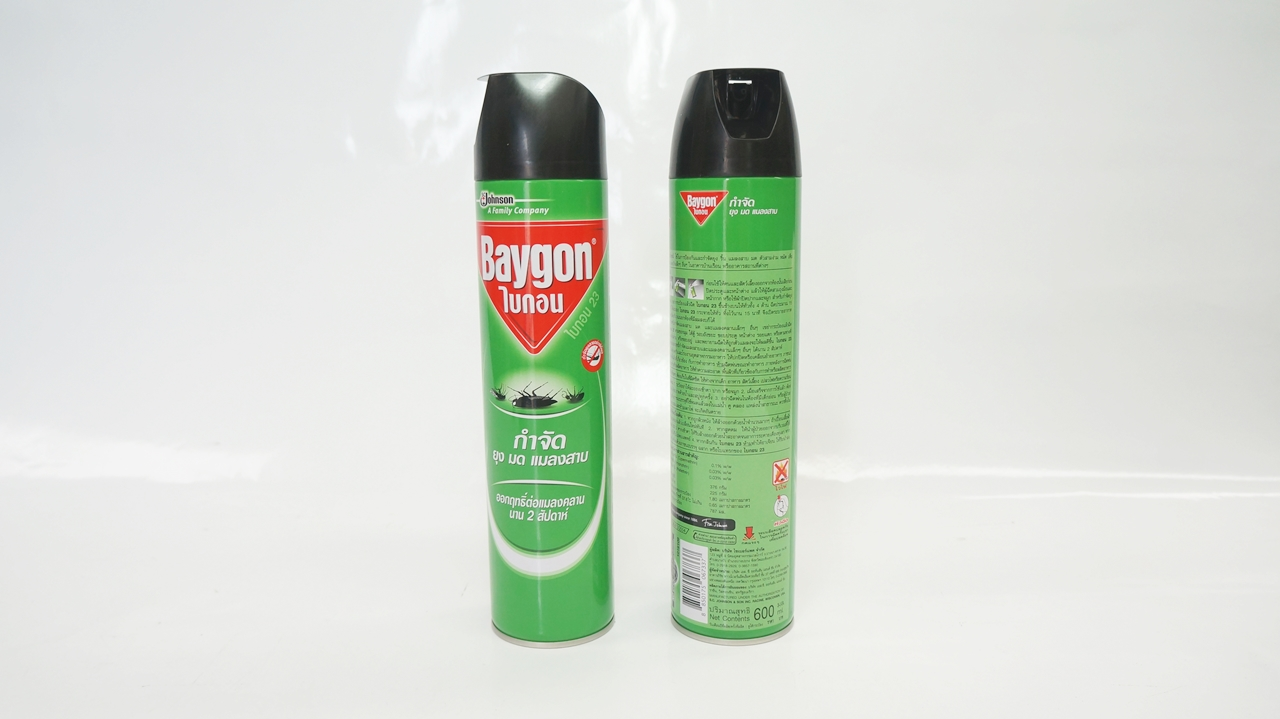Insecticide: (465, 64, 627, 654), (657, 57, 807, 657)
